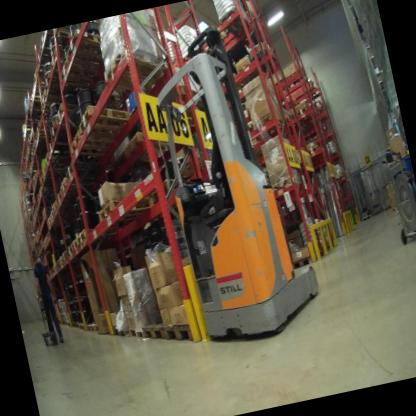forklift: (131, 6, 332, 357)
pallet: (107, 126, 197, 181), (97, 42, 171, 105), (73, 92, 143, 151), (92, 185, 159, 230), (59, 49, 108, 103), (61, 23, 113, 68), (66, 124, 117, 169), (62, 150, 105, 186), (57, 164, 106, 195), (51, 94, 88, 135), (45, 114, 86, 148), (74, 223, 122, 249), (38, 71, 74, 104), (36, 27, 72, 56), (45, 134, 81, 161), (162, 317, 193, 347), (294, 102, 324, 133), (138, 310, 165, 344), (41, 147, 74, 172), (38, 89, 66, 116), (54, 185, 85, 208), (50, 194, 78, 218), (26, 92, 52, 116), (127, 320, 145, 344), (32, 119, 51, 141), (113, 320, 130, 342), (38, 165, 60, 182), (306, 143, 326, 159), (30, 141, 44, 156), (67, 240, 78, 256), (85, 320, 97, 334), (61, 249, 71, 262), (77, 320, 87, 333), (48, 208, 56, 223), (41, 207, 49, 221), (45, 214, 52, 228), (73, 319, 81, 330), (58, 254, 65, 264)
